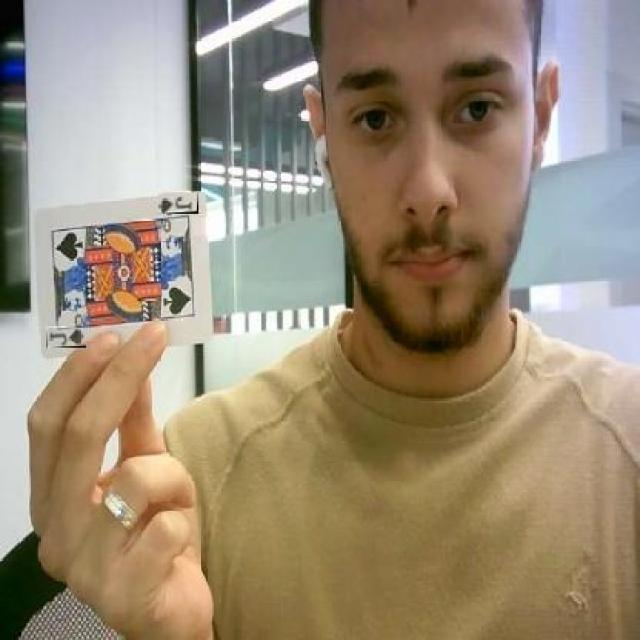JS: (159, 192, 199, 214), (46, 328, 86, 348)
